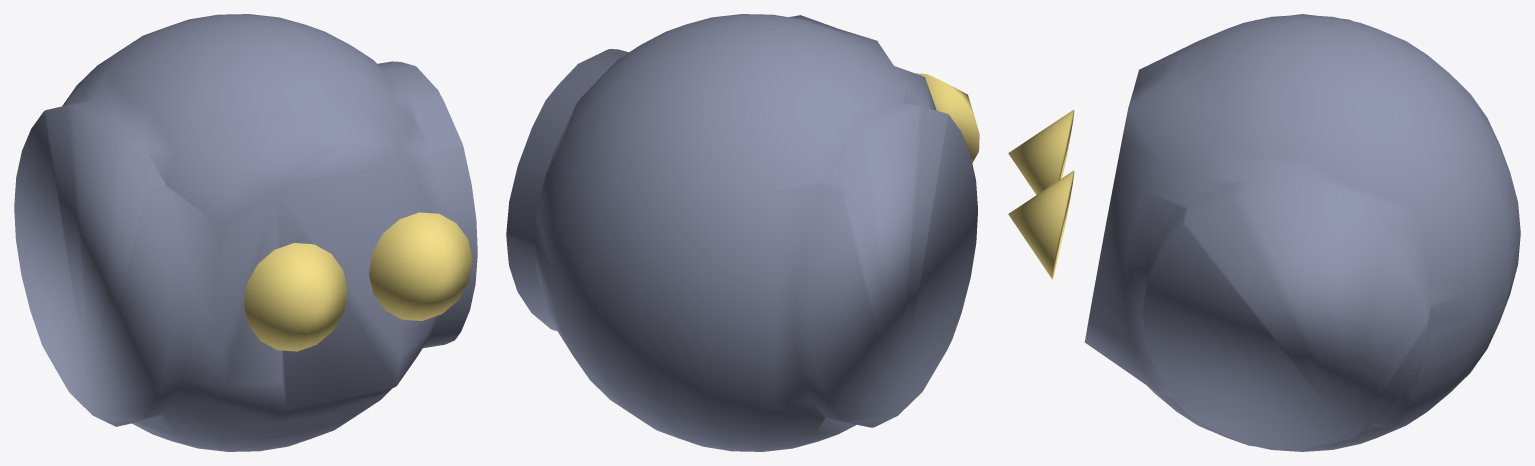
The model's file is worker.obj.
The picture shows the model from 3 angles, left to right: view 1: azimuth 30°, elevation 25°; view 2: azimuth 150°, elevation 25°; view 3: azimuth 270°, elevation 25°; orthographic projection.
Parts seen in each view (by area): view 1: robot1; view 2: robot1; view 3: robot1.
Boxes of the visible parts, x1,y1,x2,y2 form: robot1: [14, 14, 477, 451]; robot1: [506, 14, 979, 451]; robot1: [1008, 14, 1520, 451].
Bounding box in the file's own units: 92.43 × 106 × 125.
